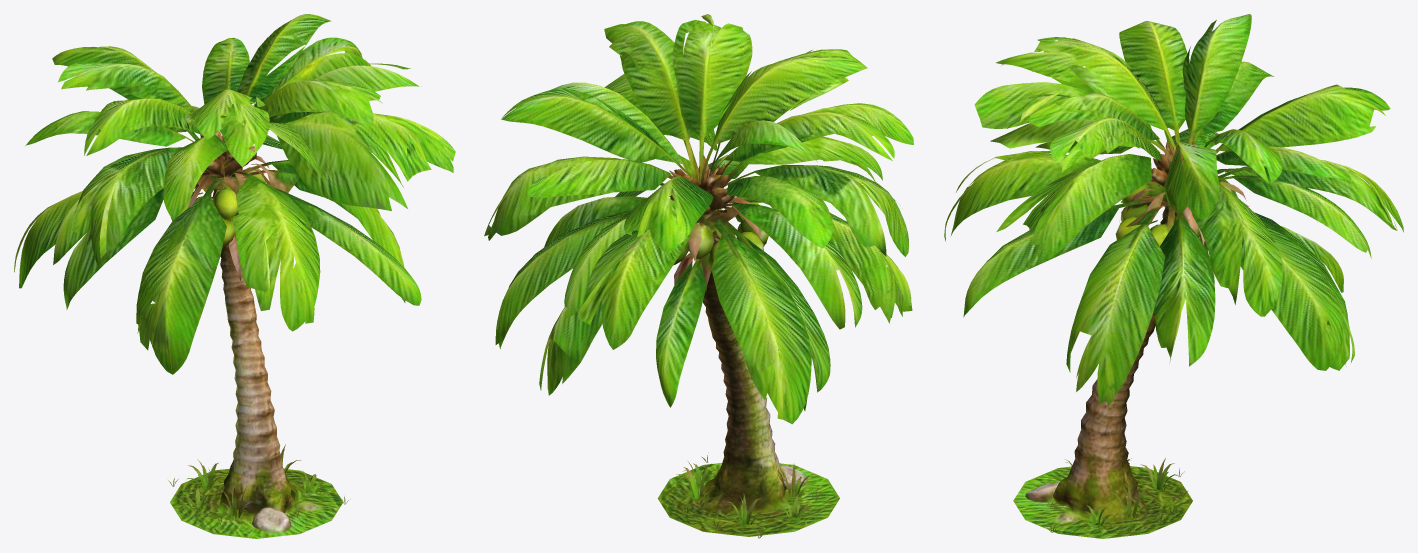
File: pohon-1.glb
3 views of the same model, side by side, from view 1: azimuth 30°, elevation 25°; view 2: azimuth 150°, elevation 25°; view 3: azimuth 270°, elevation 25° (orthographic). The views are drawn at different scales.
Parts seen in each view (by area): view 1: pohon; view 2: pohon; view 3: pohon.
Boxes of the visible parts, <box> form: pohon: <box>14,14,455,538</box>; pohon: <box>484,14,913,538</box>; pohon: <box>944,14,1403,538</box>.
Size of the model in its own units: 0.8442 by 0.9995 by 0.9438.
Materials: 1 (1 with a texture image).
